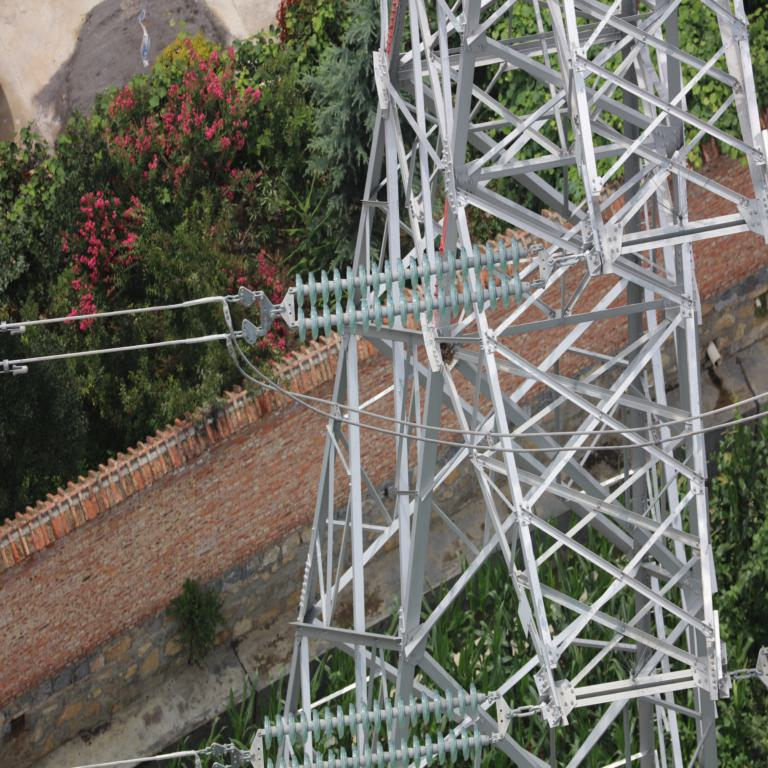nest: (439, 341, 456, 362)
